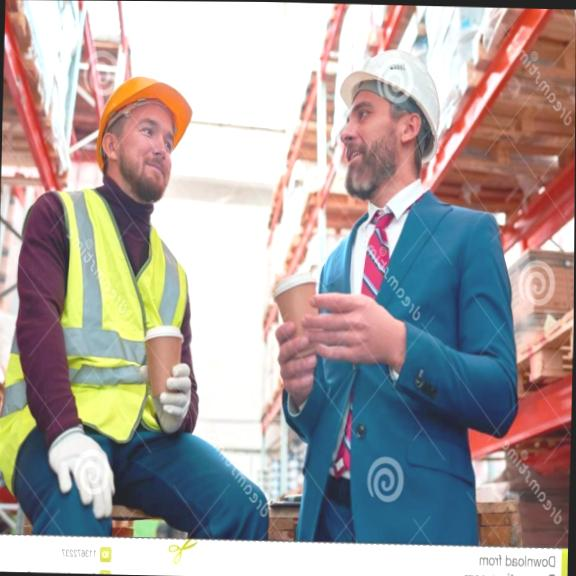no_safety_vest: (309, 182, 531, 538)
safety_vest: (2, 185, 193, 427)
